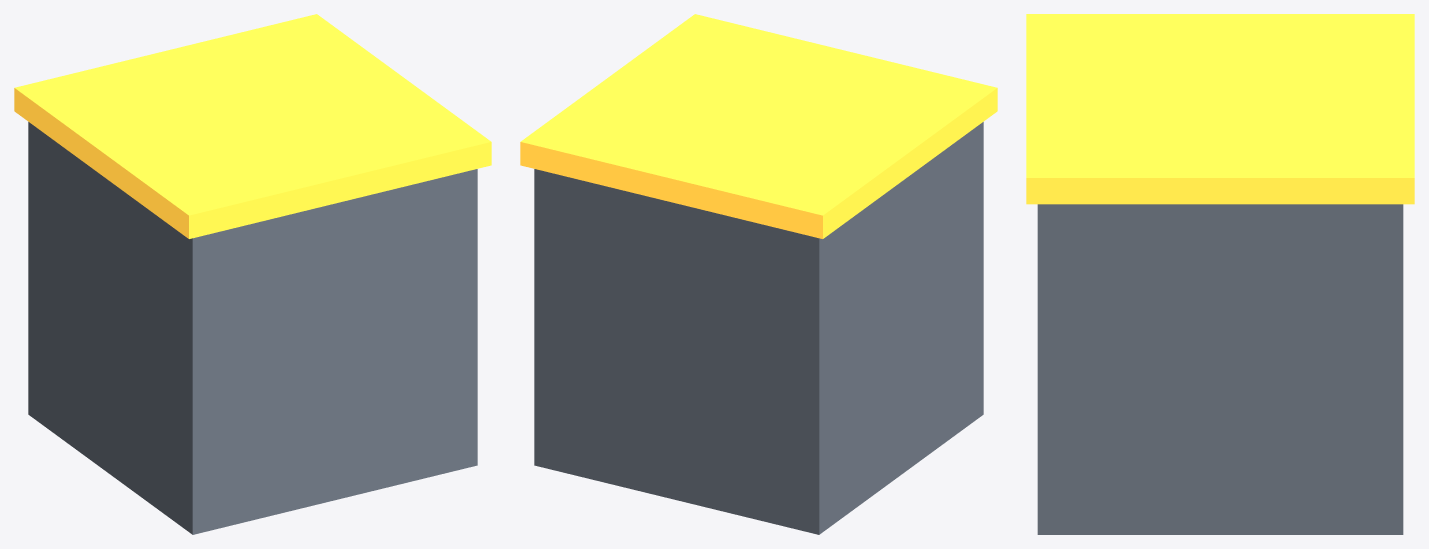
Rendered from pillar.glb.
The picture shows the model from 3 angles, left to right: view 1: azimuth 30°, elevation 25°; view 2: azimuth 150°, elevation 25°; view 3: azimuth 270°, elevation 25°; orthographic projection. The views are drawn at different scales.
Visible parts, largest first — view 1: PillarBody, PillarCap; view 2: PillarBody, PillarCap; view 3: PillarBody, PillarCap.
Boxes of the visible parts, left/top/right/bottom form: PillarBody: left=28, top=122, right=477, bottom=534; PillarCap: left=14, top=14, right=491, bottom=238; PillarBody: left=534, top=122, right=983, bottom=534; PillarCap: left=520, top=14, right=997, bottom=238; PillarBody: left=1037, top=204, right=1403, bottom=534; PillarCap: left=1026, top=14, right=1414, bottom=204.
Size of the model in its own units: 5.1 by 5.24 by 5.1.
